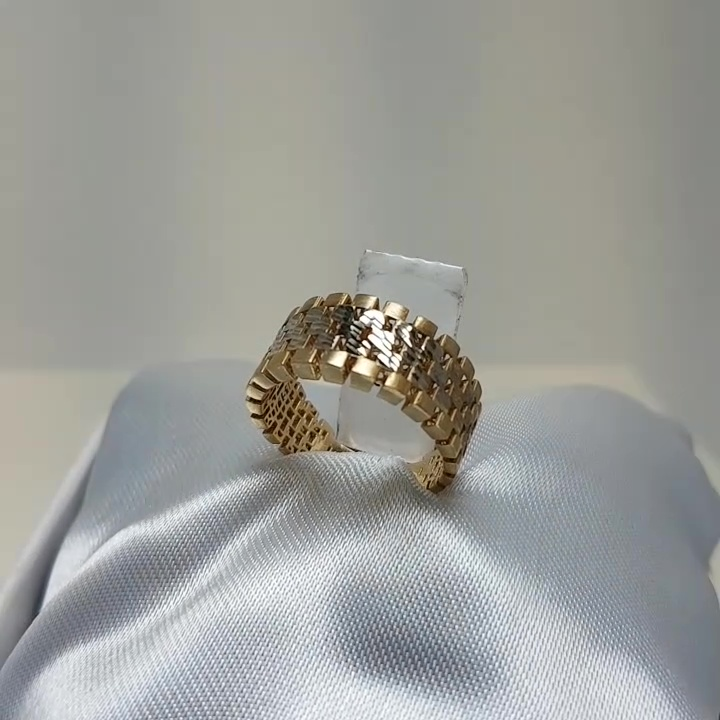Ring 1: (235, 279, 498, 508)
